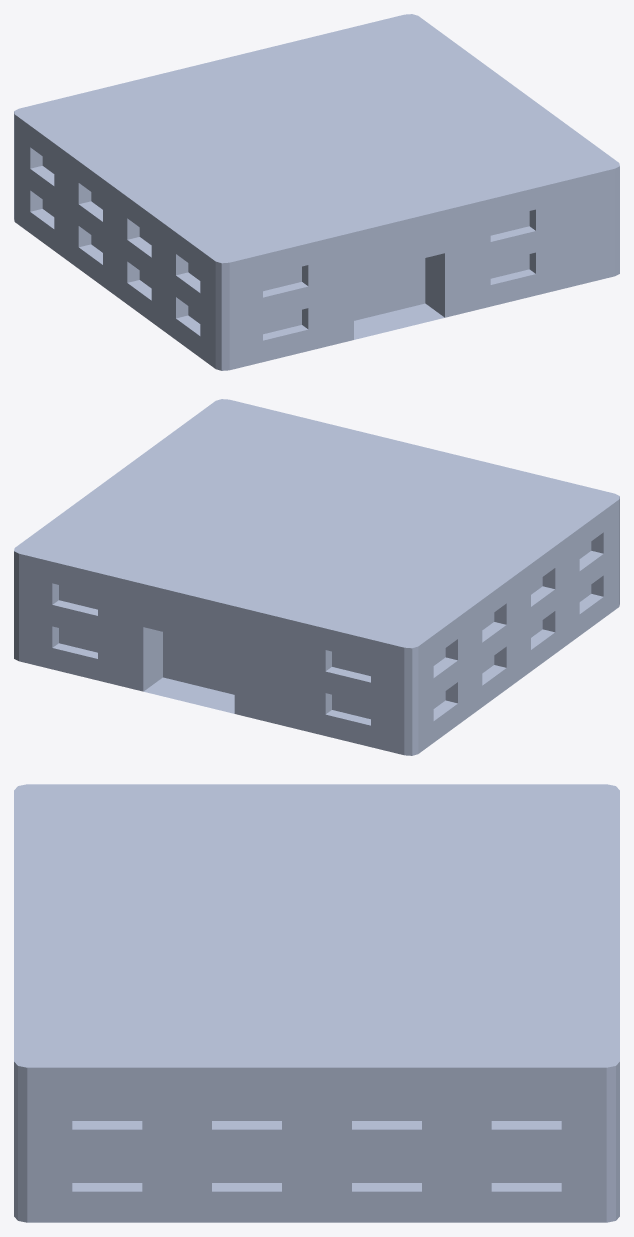
The model's file is building1.fbx.
The picture shows the model from 3 angles, top to bottom: view 1: azimuth 30°, elevation 25°; view 2: azimuth 150°, elevation 25°; view 3: azimuth 270°, elevation 25°; orthographic projection. The views are drawn at different scales.
Parts seen in each view (by area): view 1: Building1; view 2: Building1; view 3: Building1.
Boxes of the visible parts, <box> form: Building1: <box>14,14,619,370</box>; Building1: <box>14,399,619,755</box>; Building1: <box>14,784,619,1222</box>.
Size of the model in its own units: 981 by 250 by 886.
